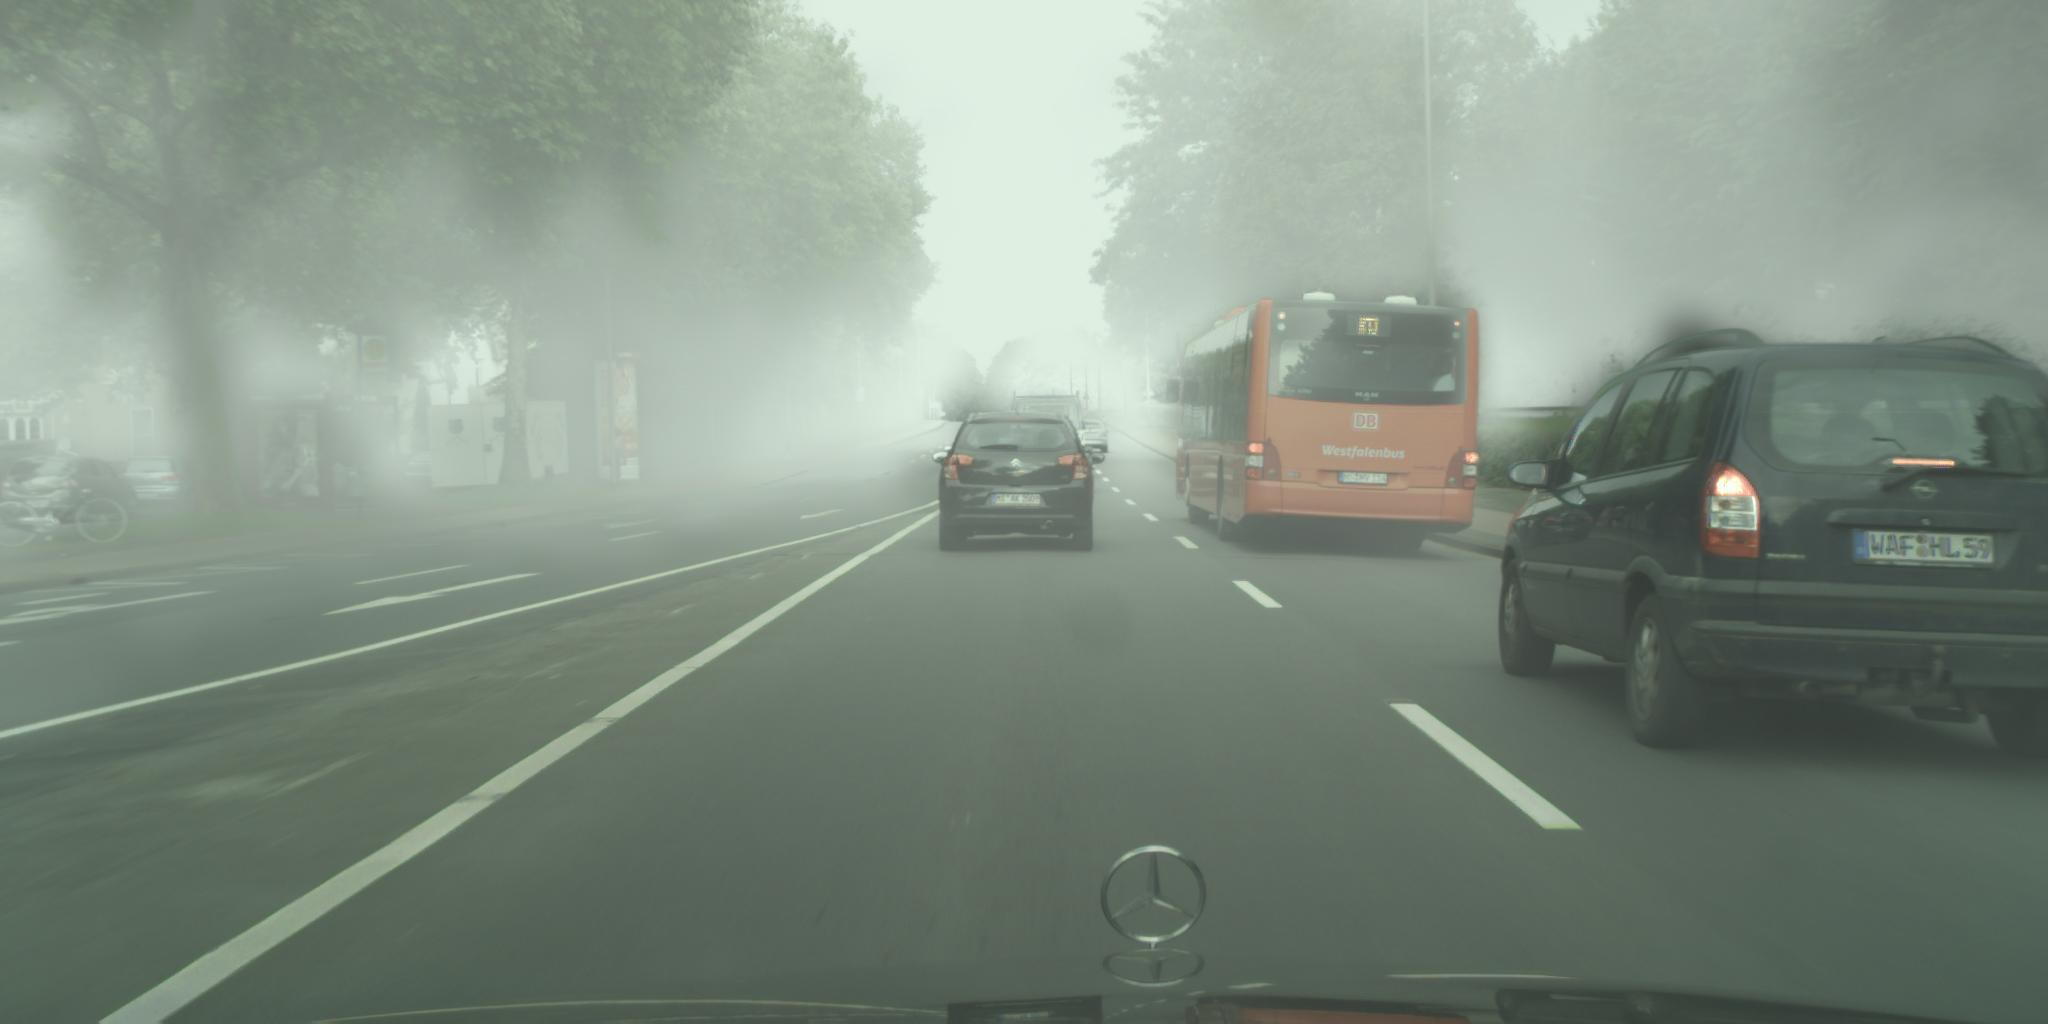bicycle: (3, 474, 129, 552)
bus: (1166, 293, 1484, 556)
car: (1497, 327, 2048, 759), (933, 411, 1105, 554), (1, 455, 141, 526), (120, 455, 202, 516), (404, 451, 438, 496), (1075, 421, 1109, 455), (1078, 413, 1108, 434)
truck: (1012, 392, 1085, 453)
